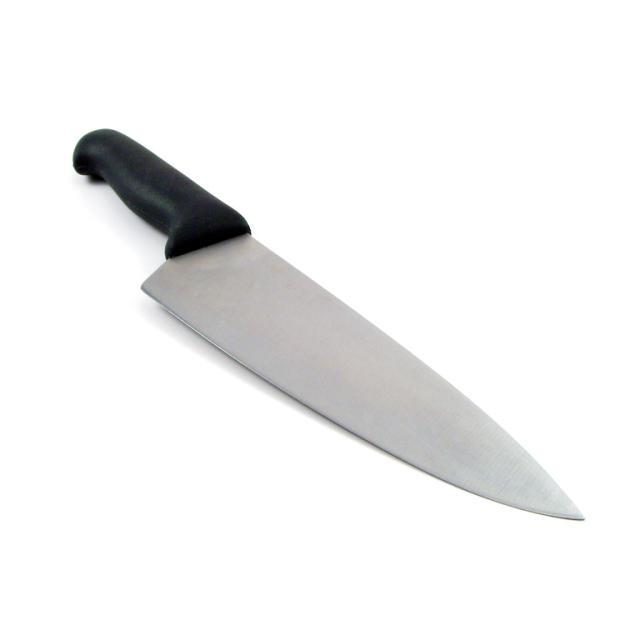Pisau: (68, 122, 588, 531)
